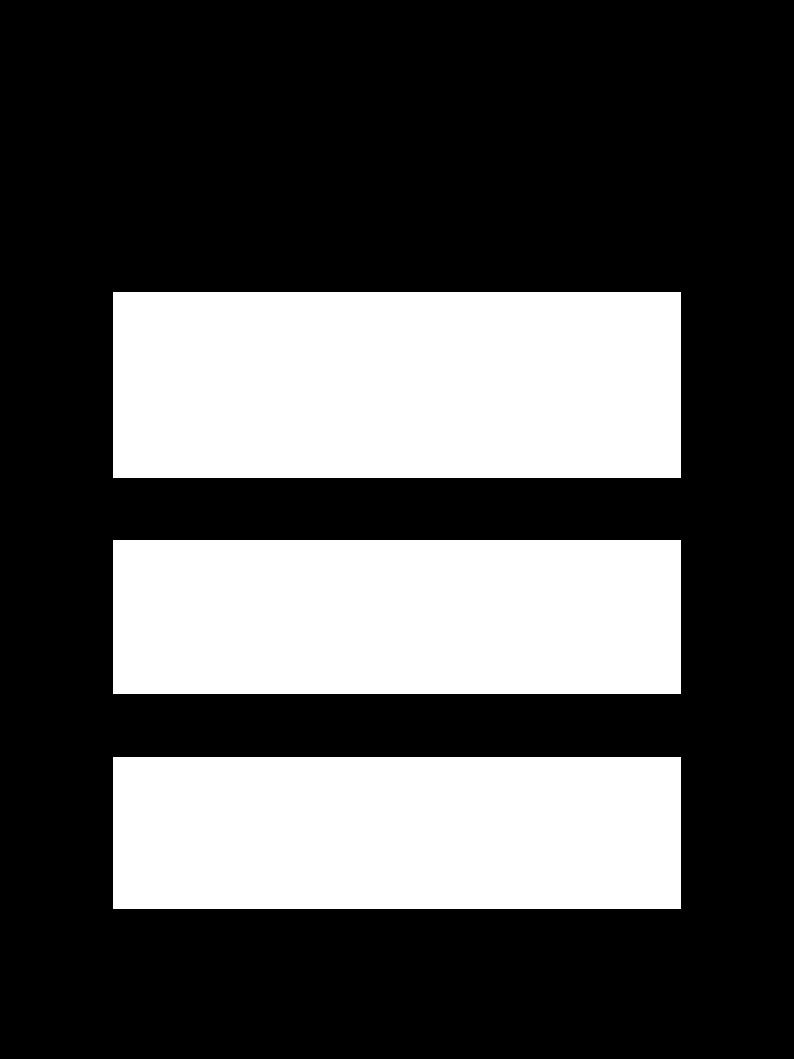table: (113, 292, 680, 477), (113, 540, 680, 693), (113, 757, 680, 908)
